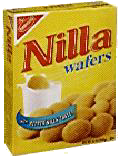grozi_77: (2, 0, 116, 156)
